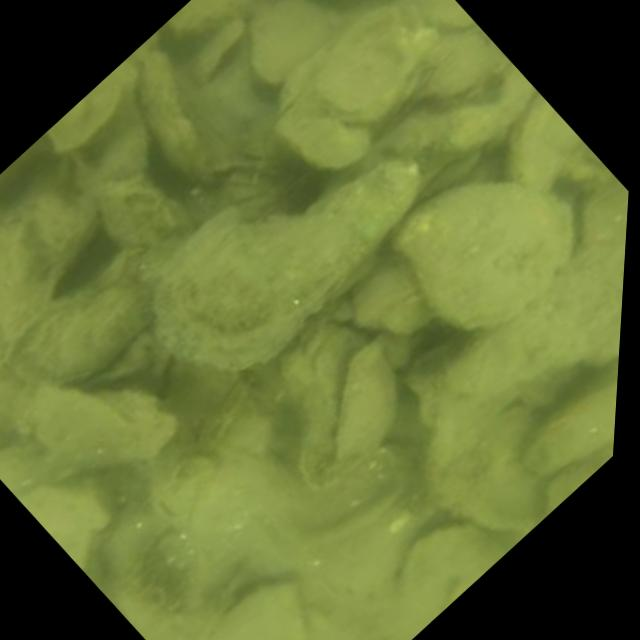Oyster-Indeterminate: (153, 161, 420, 371), (429, 222, 627, 463), (395, 181, 574, 328), (283, 316, 375, 490), (0, 189, 100, 335), (9, 283, 150, 384), (274, 443, 404, 546), (310, 5, 421, 119), (16, 386, 171, 466), (534, 360, 619, 470), (403, 524, 508, 597), (18, 485, 110, 567), (248, 0, 332, 86), (336, 343, 398, 459), (509, 97, 585, 190), (45, 77, 126, 157), (276, 103, 362, 171), (423, 44, 501, 98), (173, 0, 257, 32)
Oyster-Open: (203, 17, 255, 88)
